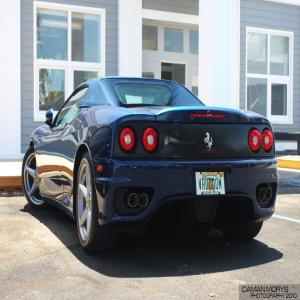Vehicle-registration-plate: (196, 173, 226, 196)
